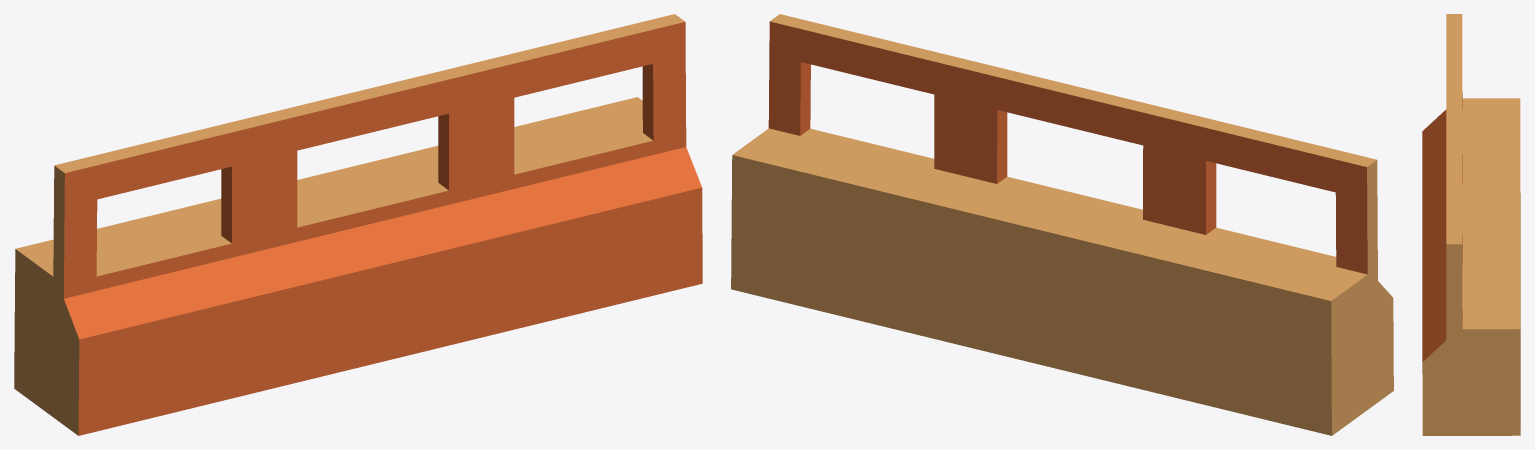
The model's file is level 1 desk.fbx.
3 views of the same model, side by side, from view 1: azimuth 30°, elevation 25°; view 2: azimuth 150°, elevation 25°; view 3: azimuth 270°, elevation 25° (orthographic). The views are drawn at different scales.
Visible parts, largest first — view 1: Desk; view 2: Desk; view 3: Desk.
Boxes of the visible parts, x1=… form: Desk: x1=14, y1=14, x2=702, y2=435; Desk: x1=731, y1=14, x2=1393, y2=435; Desk: x1=1422, y1=14, x2=1520, y2=435.
Size of the model in its own units: 975 by 374 by 174.
